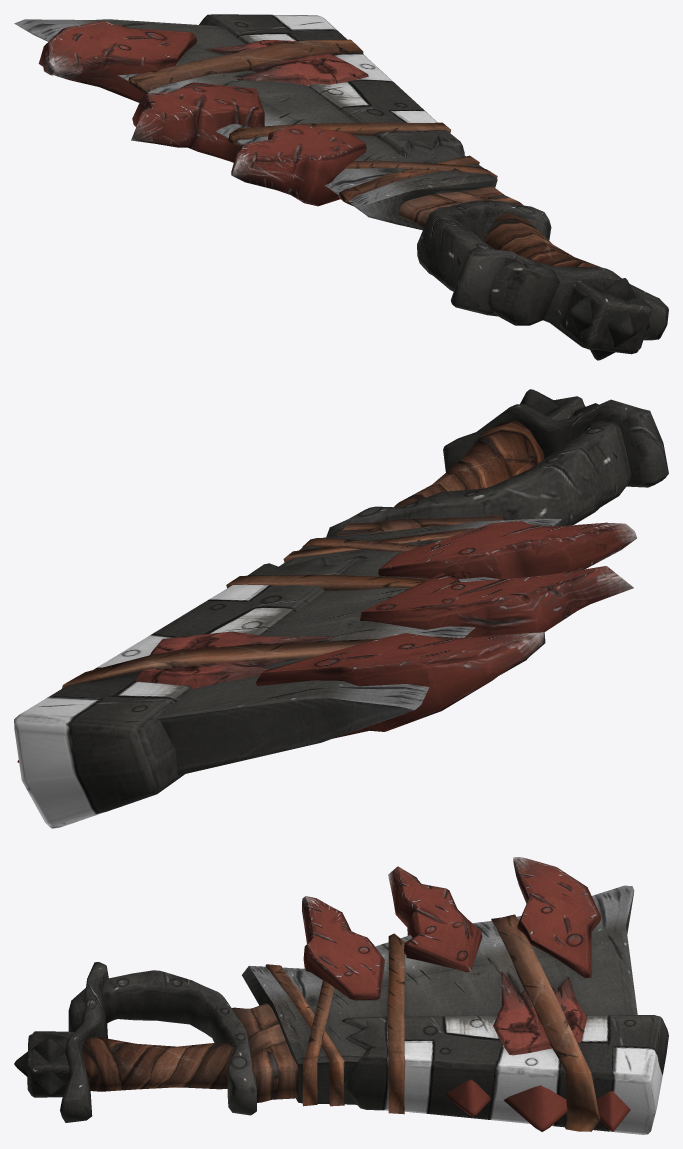
File: Orc Axe.fbx
3 views of the same model, one above another, from view 1: azimuth 30°, elevation 25°; view 2: azimuth 150°, elevation 25°; view 3: azimuth 270°, elevation 25° (orthographic). The views are drawn at different scales.
Parts seen in each view (by area): view 1: Mesh; view 2: Mesh; view 3: Mesh.
Part boxes in pixels (bbox=[...]): Mesh: bbox=[14, 14, 668, 360]; Mesh: bbox=[14, 389, 668, 828]; Mesh: bbox=[14, 857, 668, 1134].
Size of the model in its own units: 2.56 by 4.72 by 1.19.
1 material, 1 textured.
